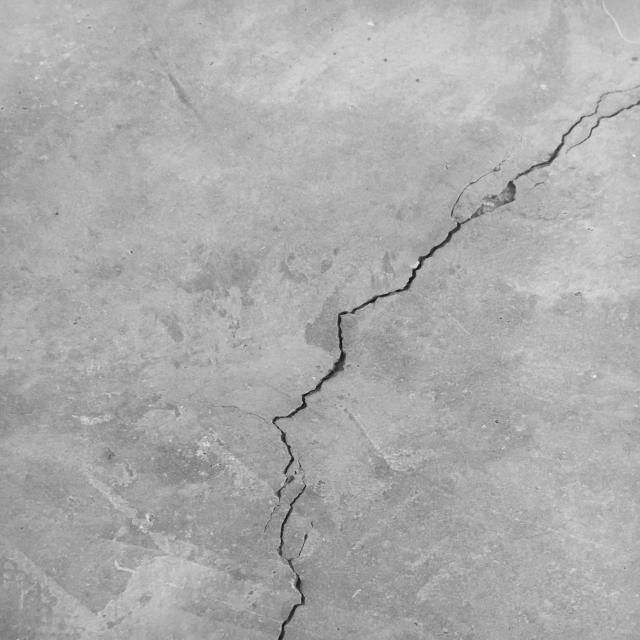SurfaceCrack: (219, 2, 637, 640)
